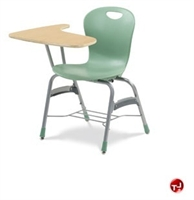desk: (6, 2, 152, 155)
